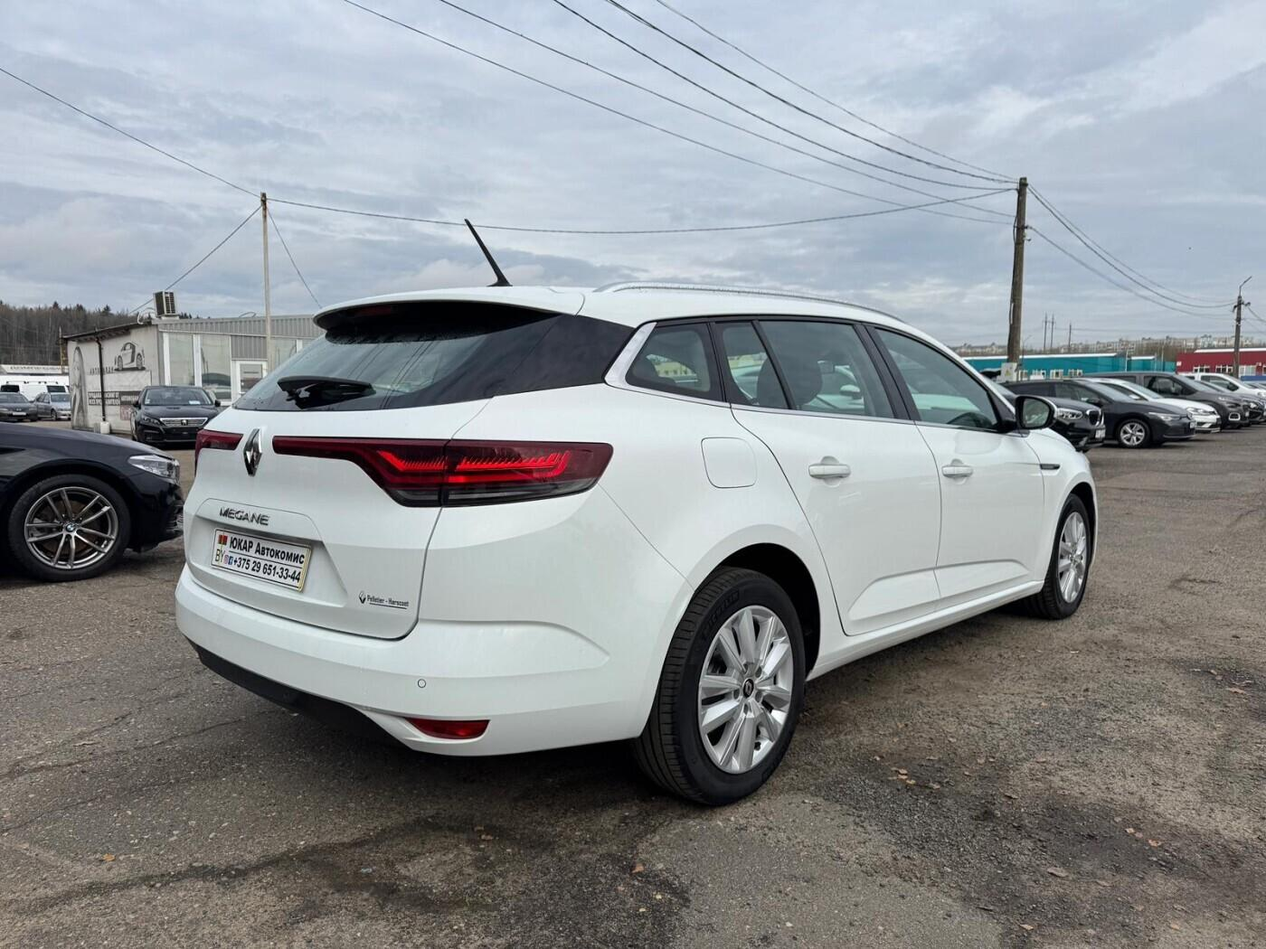Megane_2020: (168, 285, 1110, 806)
